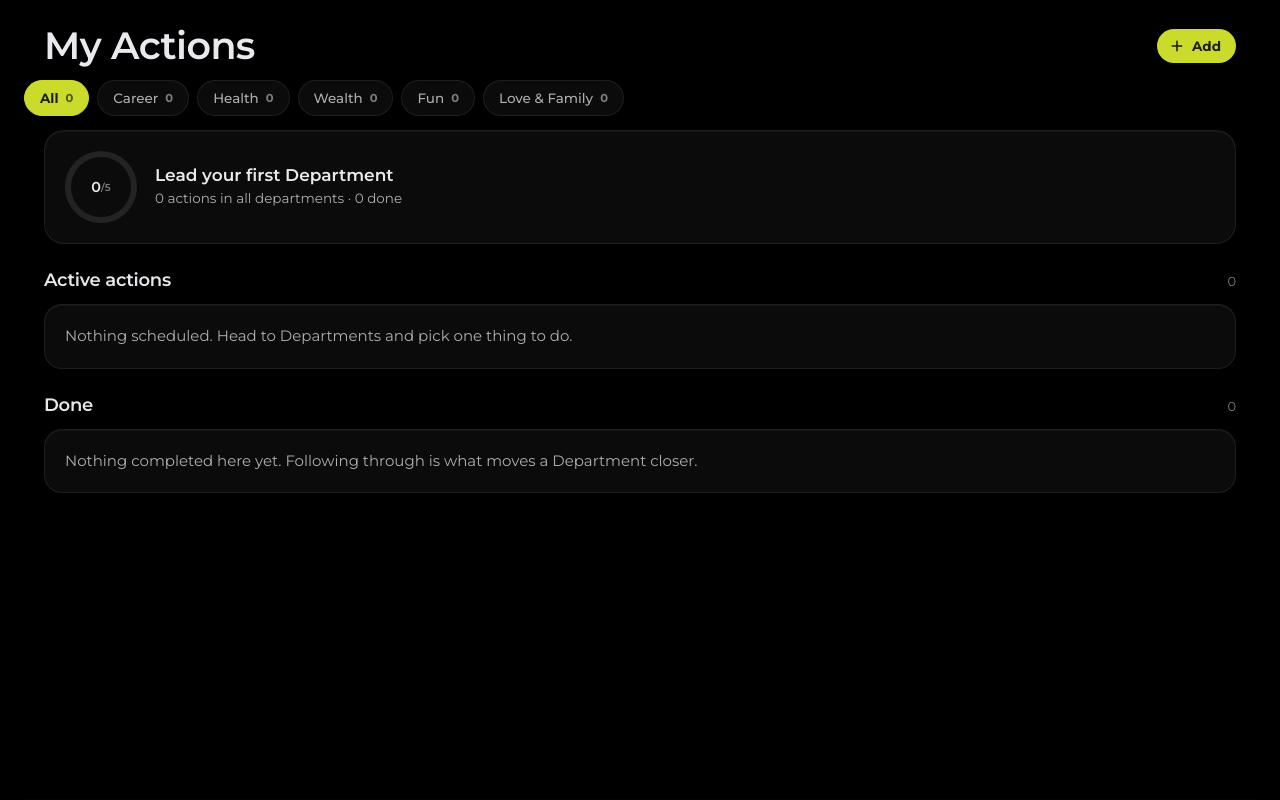
Test: MyActionsScreen › shows an error state when submitting an empty action
This screenshot has width=1280, height=800.
Click the button with aria-label "Add action": (1196, 46) [1157,29,1236,63]
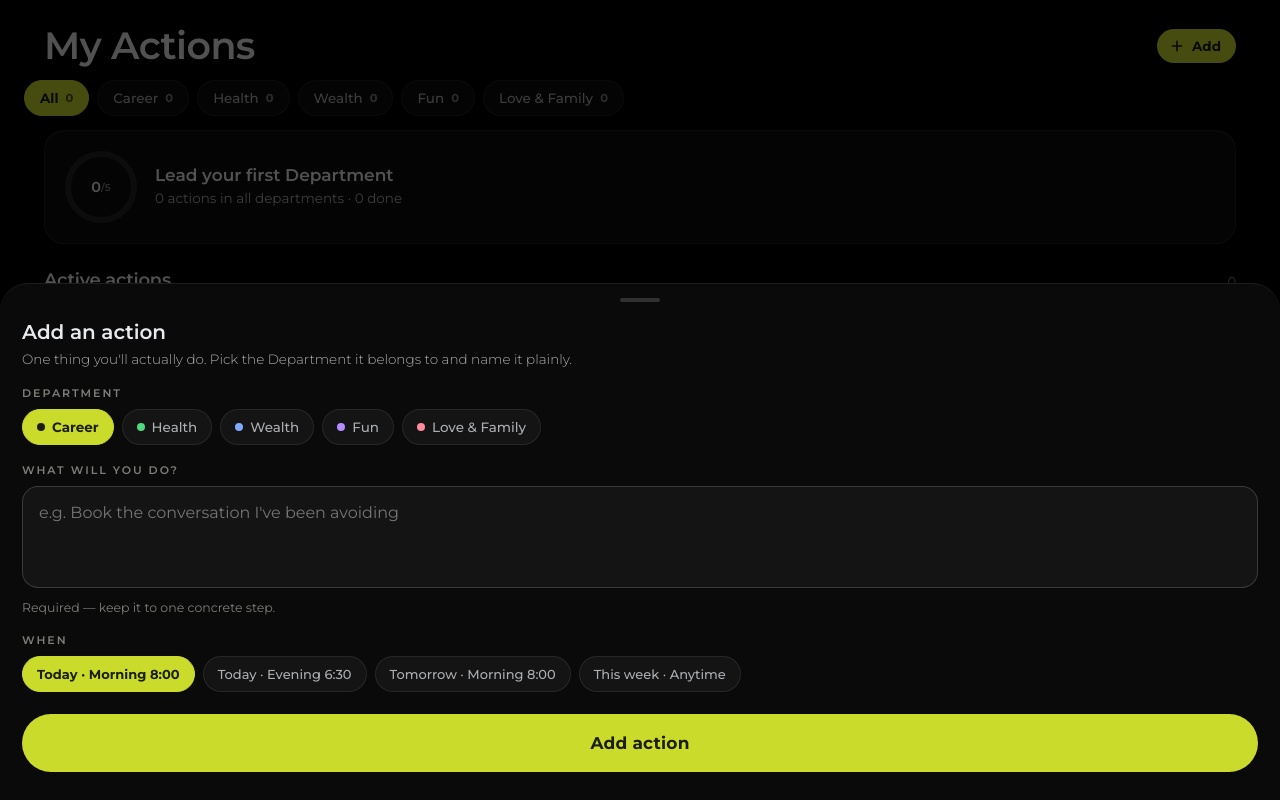
Click the button "Add action": (640, 743) [22,714,1258,772]
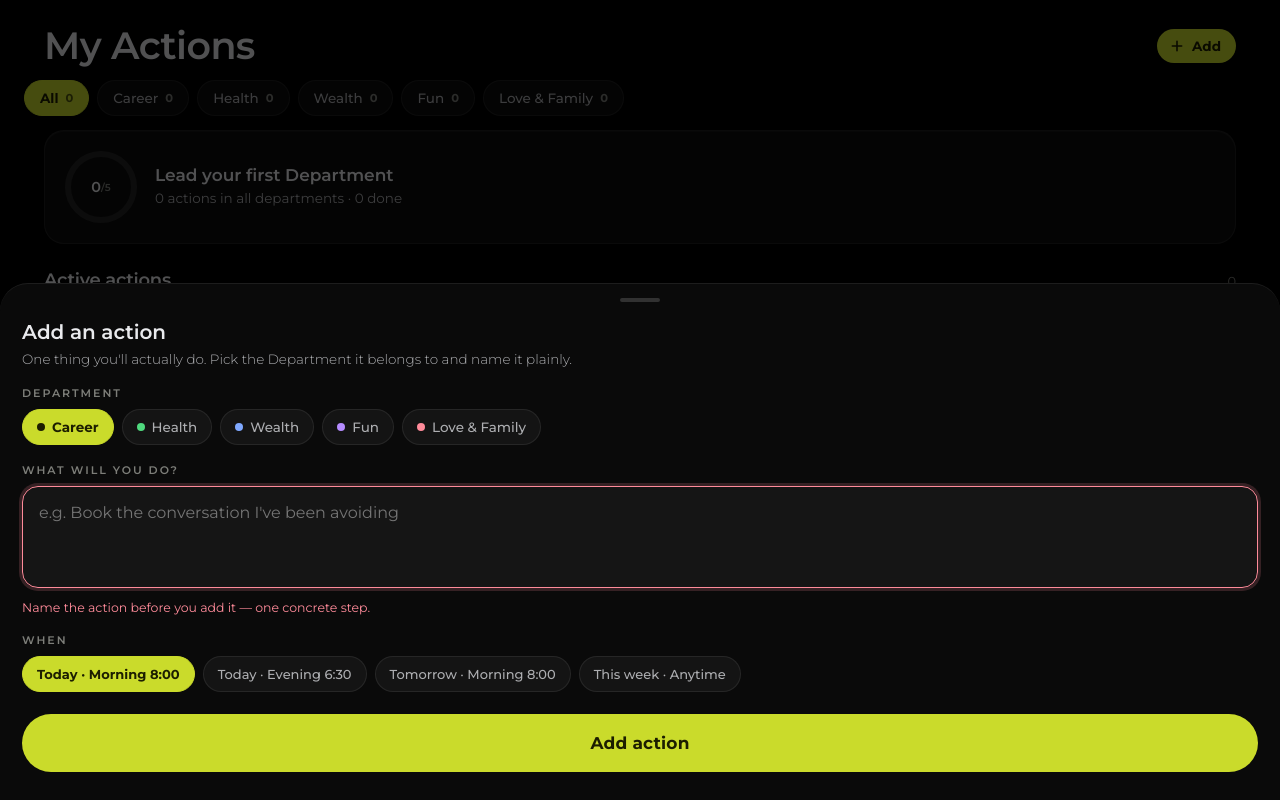
Result: the text "Name the action before you add it — one concrete step." is shown at [22,600,370,615]
